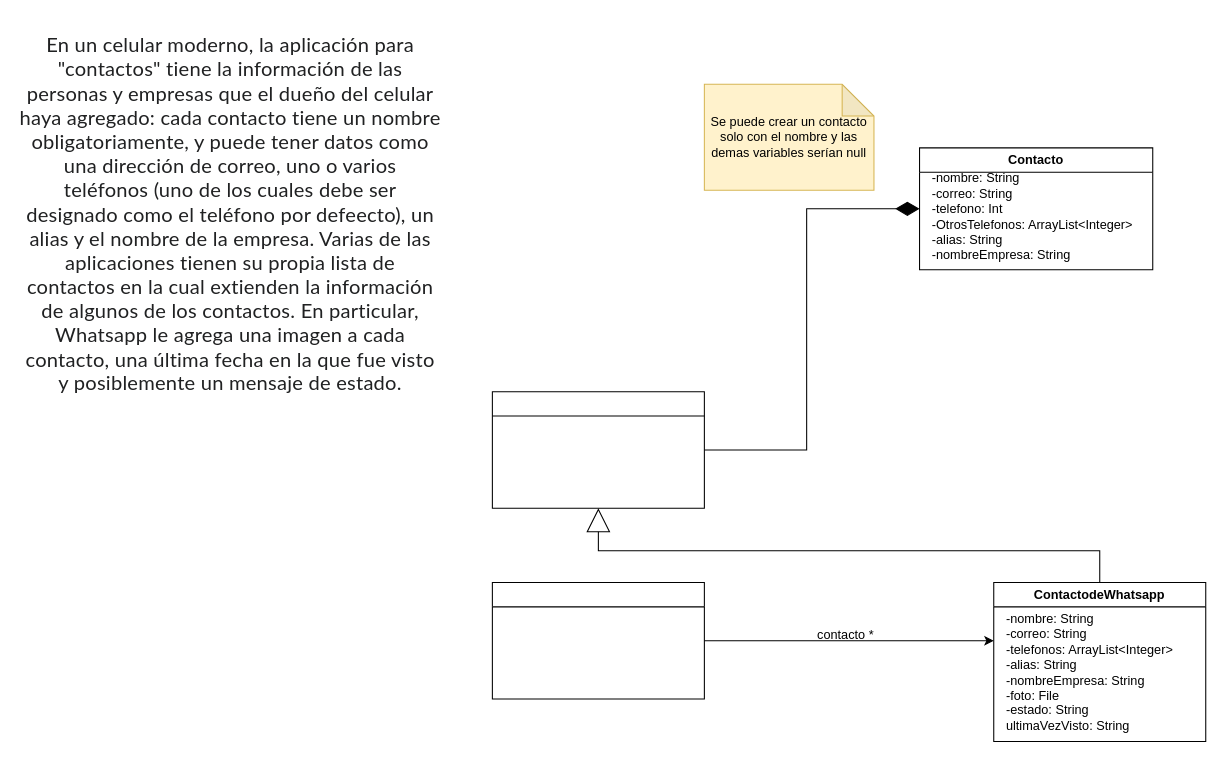
The diagram is 1224 pixels wide and 760 high, and some of its shapes have lost their labels. Here are the shapes that lost their labels. From the top down, the centre of each, then its label:
point 597,449: Aplicacion Contactos
point 597,640: Whatsapp
